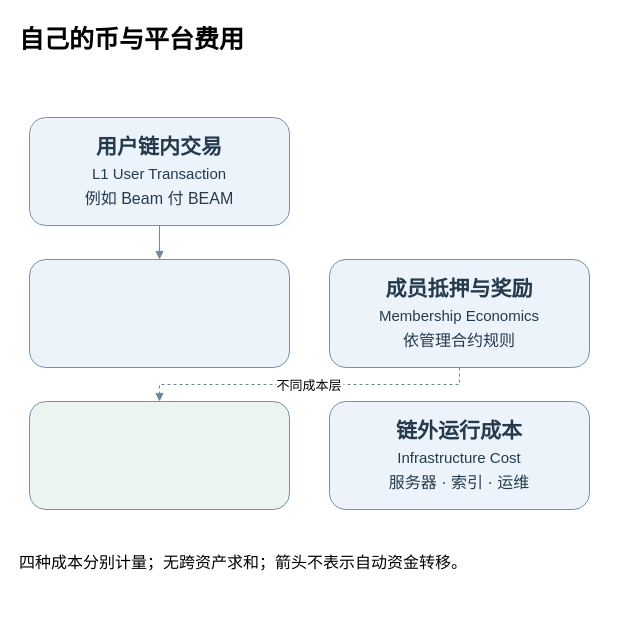
This 618x633 diagram has some shape labels left out. Here are the shapes that lost their labels. From the top down, the box of each, then its label:
(28, 258, 290, 368): 原生币费用机制 Native Gas Token 链内配置与计费
(28, 400, 290, 510): P-Chain 注册余额 AVAX Fee Balance 连续费资源
